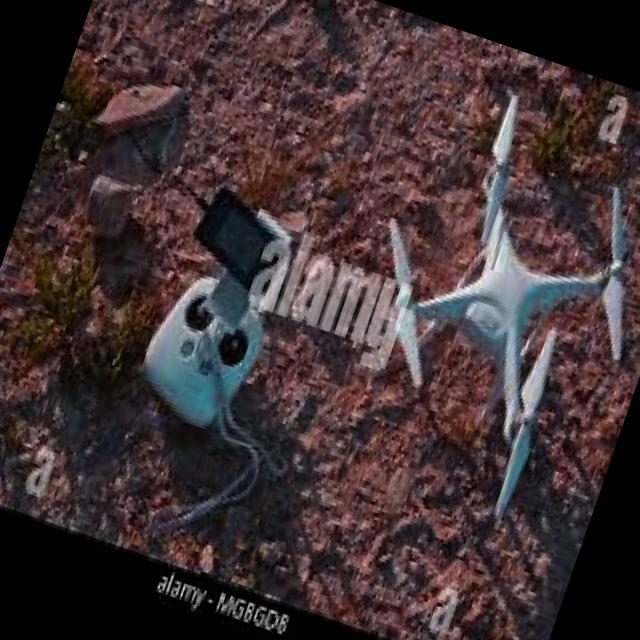drone: (309, 81, 640, 536)
